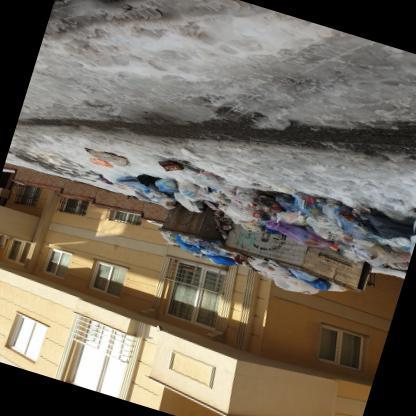Garbage: (141, 132, 415, 276), (238, 255, 350, 307), (338, 201, 415, 250), (159, 228, 242, 270), (82, 140, 146, 185), (264, 220, 345, 254), (214, 185, 262, 224), (284, 186, 330, 225), (115, 169, 158, 199), (169, 173, 200, 204), (161, 154, 187, 176)
